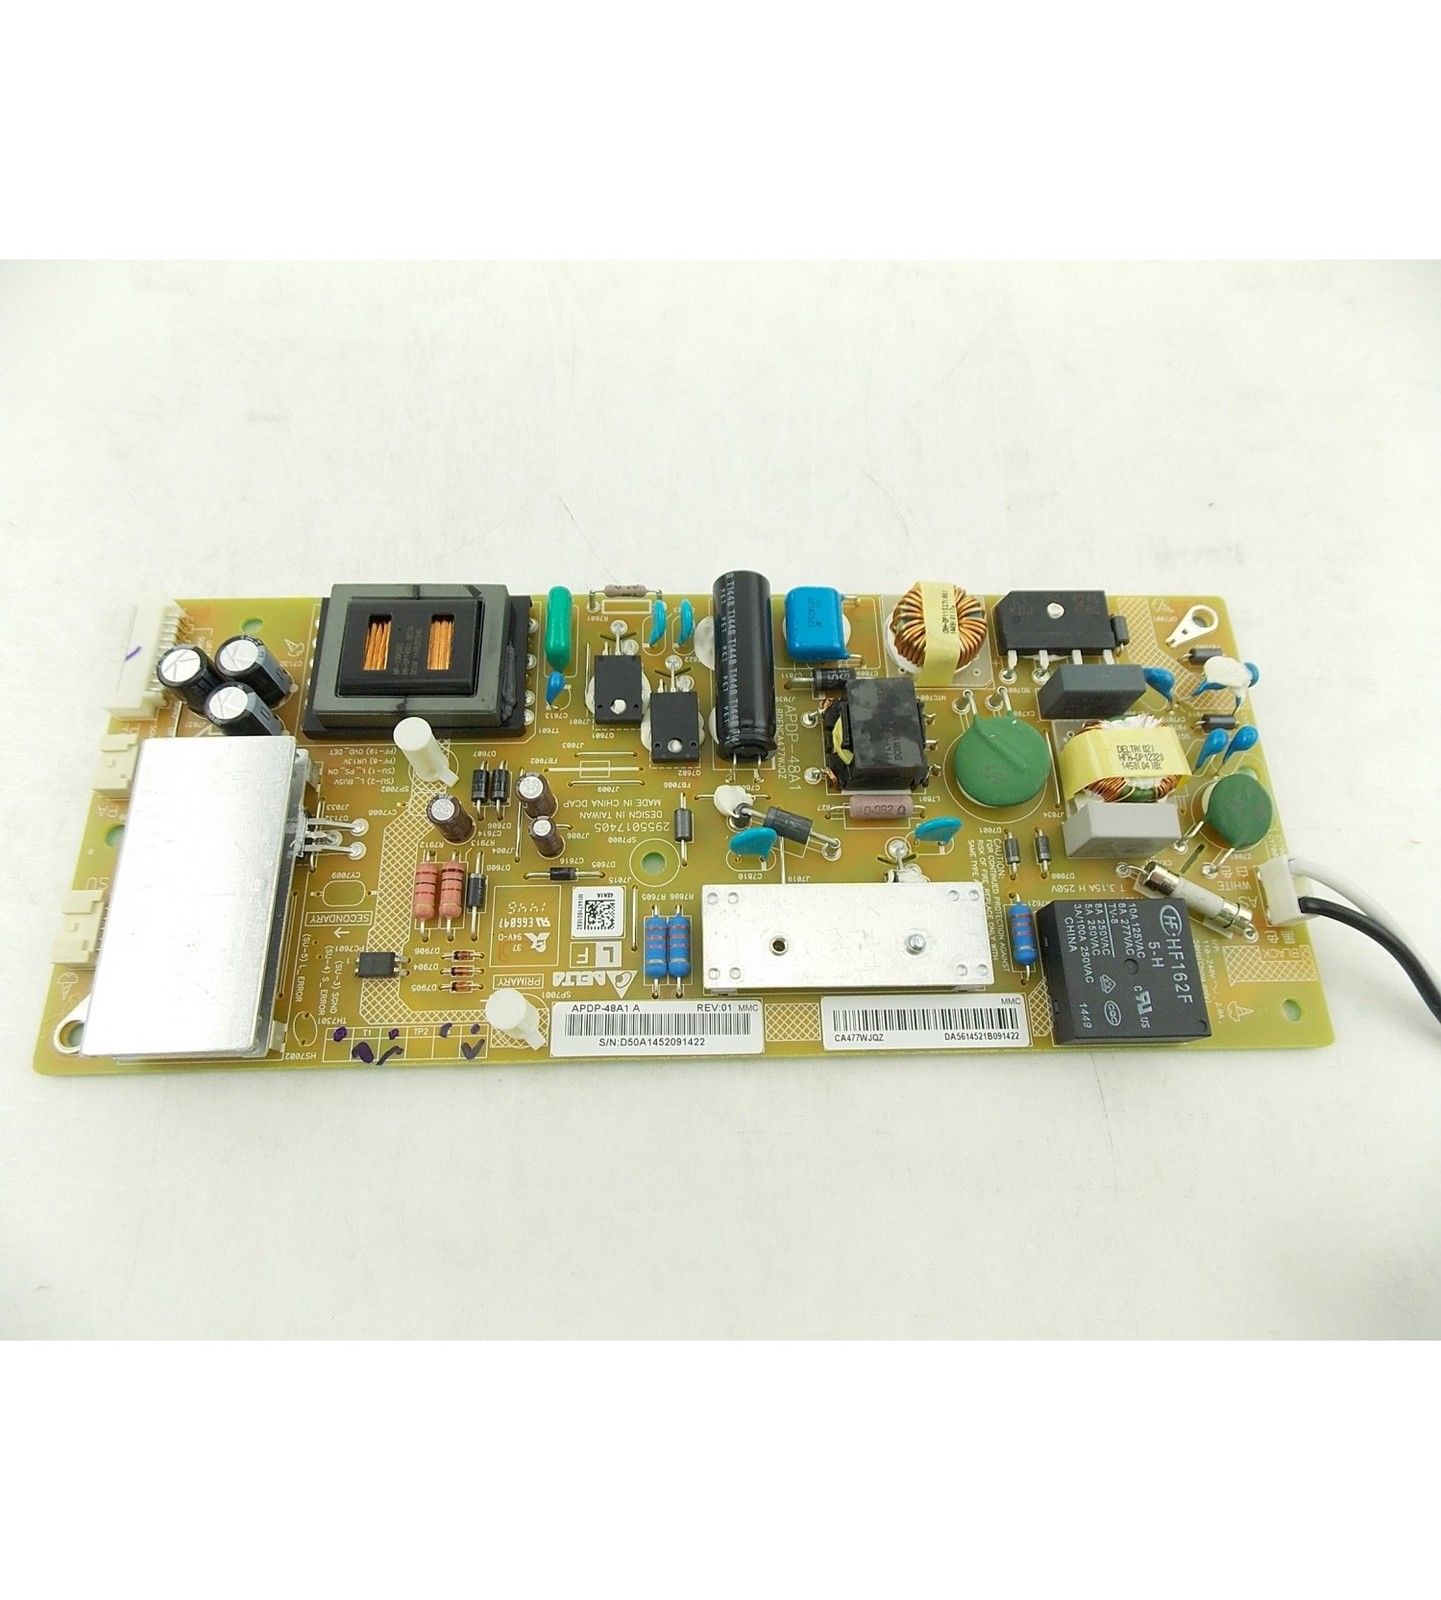capacitor: (712, 570, 778, 762), (200, 685, 282, 737), (216, 637, 289, 689), (159, 647, 211, 698), (428, 794, 474, 840), (515, 772, 558, 817), (530, 815, 565, 857)
resistor: (1010, 904, 1038, 966), (440, 861, 465, 917), (668, 915, 690, 977), (413, 861, 435, 920), (645, 917, 668, 975)
